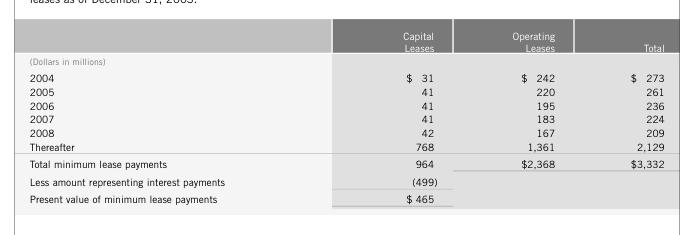table: (28, 29, 663, 204)
table column: (28, 29, 313, 204), (313, 29, 474, 204), (474, 29, 591, 204), (591, 29, 663, 204)
table column header: (28, 29, 663, 54)
table projected row header: (28, 54, 663, 68)
table row: (28, 29, 663, 54), (28, 154, 663, 172), (28, 172, 663, 190), (28, 68, 663, 84), (28, 139, 663, 154), (28, 54, 663, 68), (28, 84, 663, 98), (28, 111, 663, 125), (28, 125, 663, 139), (28, 190, 663, 204), (28, 98, 663, 111)
